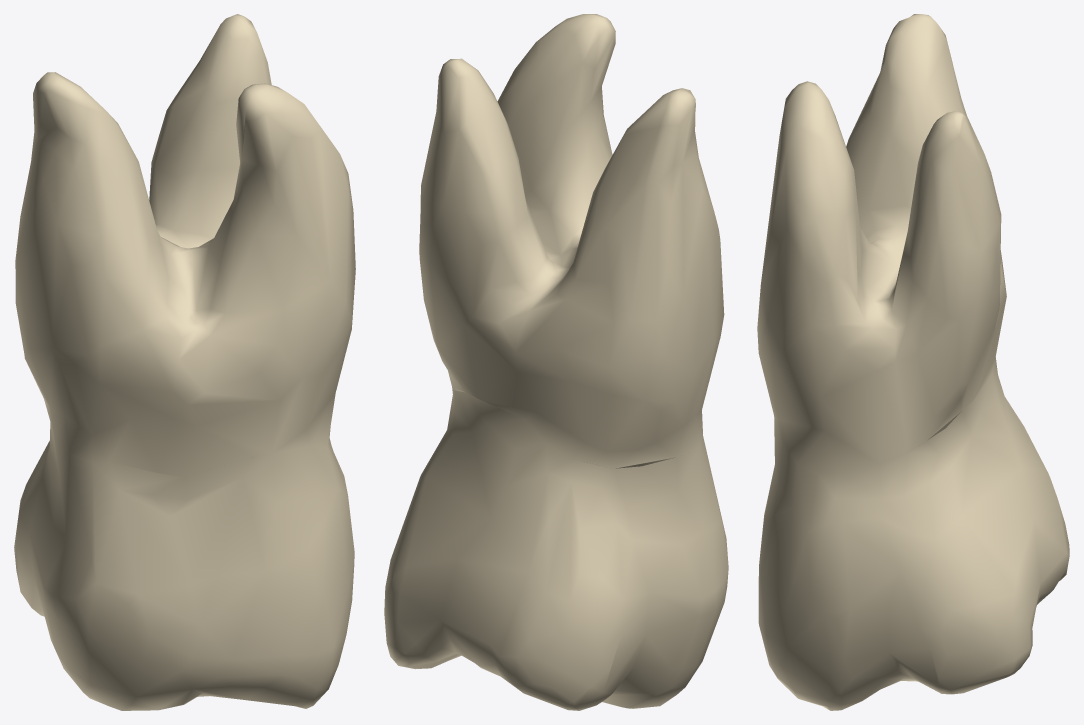
File: esqueleto-upper-first-molar-tooth-l.glb
3 views of the same model, side by side, from view 1: azimuth 30°, elevation 25°; view 2: azimuth 150°, elevation 25°; view 3: azimuth 270°, elevation 25° (orthographic). The views are drawn at different scales.
Parts seen in each view (by area): view 1: Upper first molar tooth.l; view 2: Upper first molar tooth.l; view 3: Upper first molar tooth.l.
Boxes of the visible parts, bbox=[...] form: Upper first molar tooth.l: bbox=[14, 14, 355, 710]; Upper first molar tooth.l: bbox=[384, 14, 728, 710]; Upper first molar tooth.l: bbox=[757, 14, 1069, 710].
Bounding box in the file's own units: 0.0113 × 0.024 × 0.0113.
